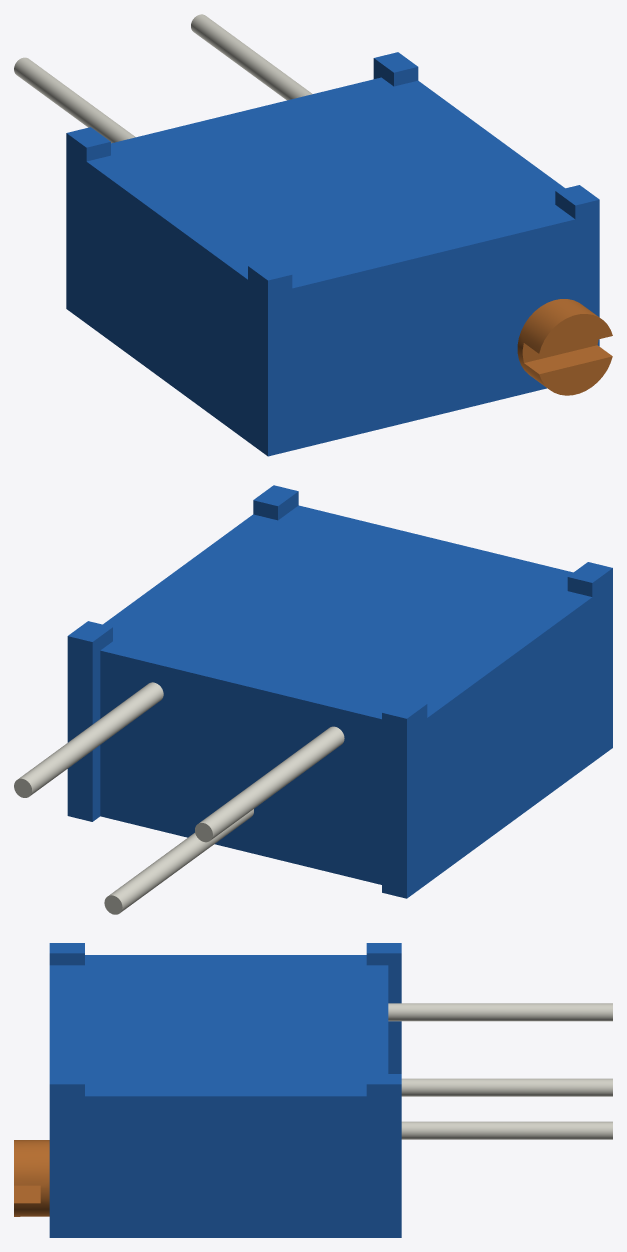
File: potentiometer-bourns-3296y-v.glb
3 renders of one model, top to bottom at view 1: azimuth 30°, elevation 25°; view 2: azimuth 150°, elevation 25°; view 3: azimuth 270°, elevation 25°, orthographic. The views are drawn at different scales.
Parts seen in each view (by area): view 1: PLASTIC-BLUE-01, MET-BRONZE, PIN-01 (×2); view 2: PLASTIC-BLUE-01, PIN-01 (×3); view 3: PLASTIC-BLUE-01, PIN-01 (×3), MET-BRONZE.
Part boxes in pixels (x1,y1,x2,y2): PLASTIC-BLUE-01: [66, 52, 599, 456]; MET-BRONZE: [517, 299, 612, 395]; PIN-01 (×2): [14, 14, 312, 143]; PLASTIC-BLUE-01: [67, 485, 612, 898]; PIN-01 (×3): [18, 682, 344, 912]; PLASTIC-BLUE-01: [49, 943, 401, 1237]; PIN-01 (×3): [388, 1003, 612, 1139]; MET-BRONZE: [14, 1140, 49, 1216].
Bounding box in the file's own units: 9.53 × 4.83 × 17.07.
